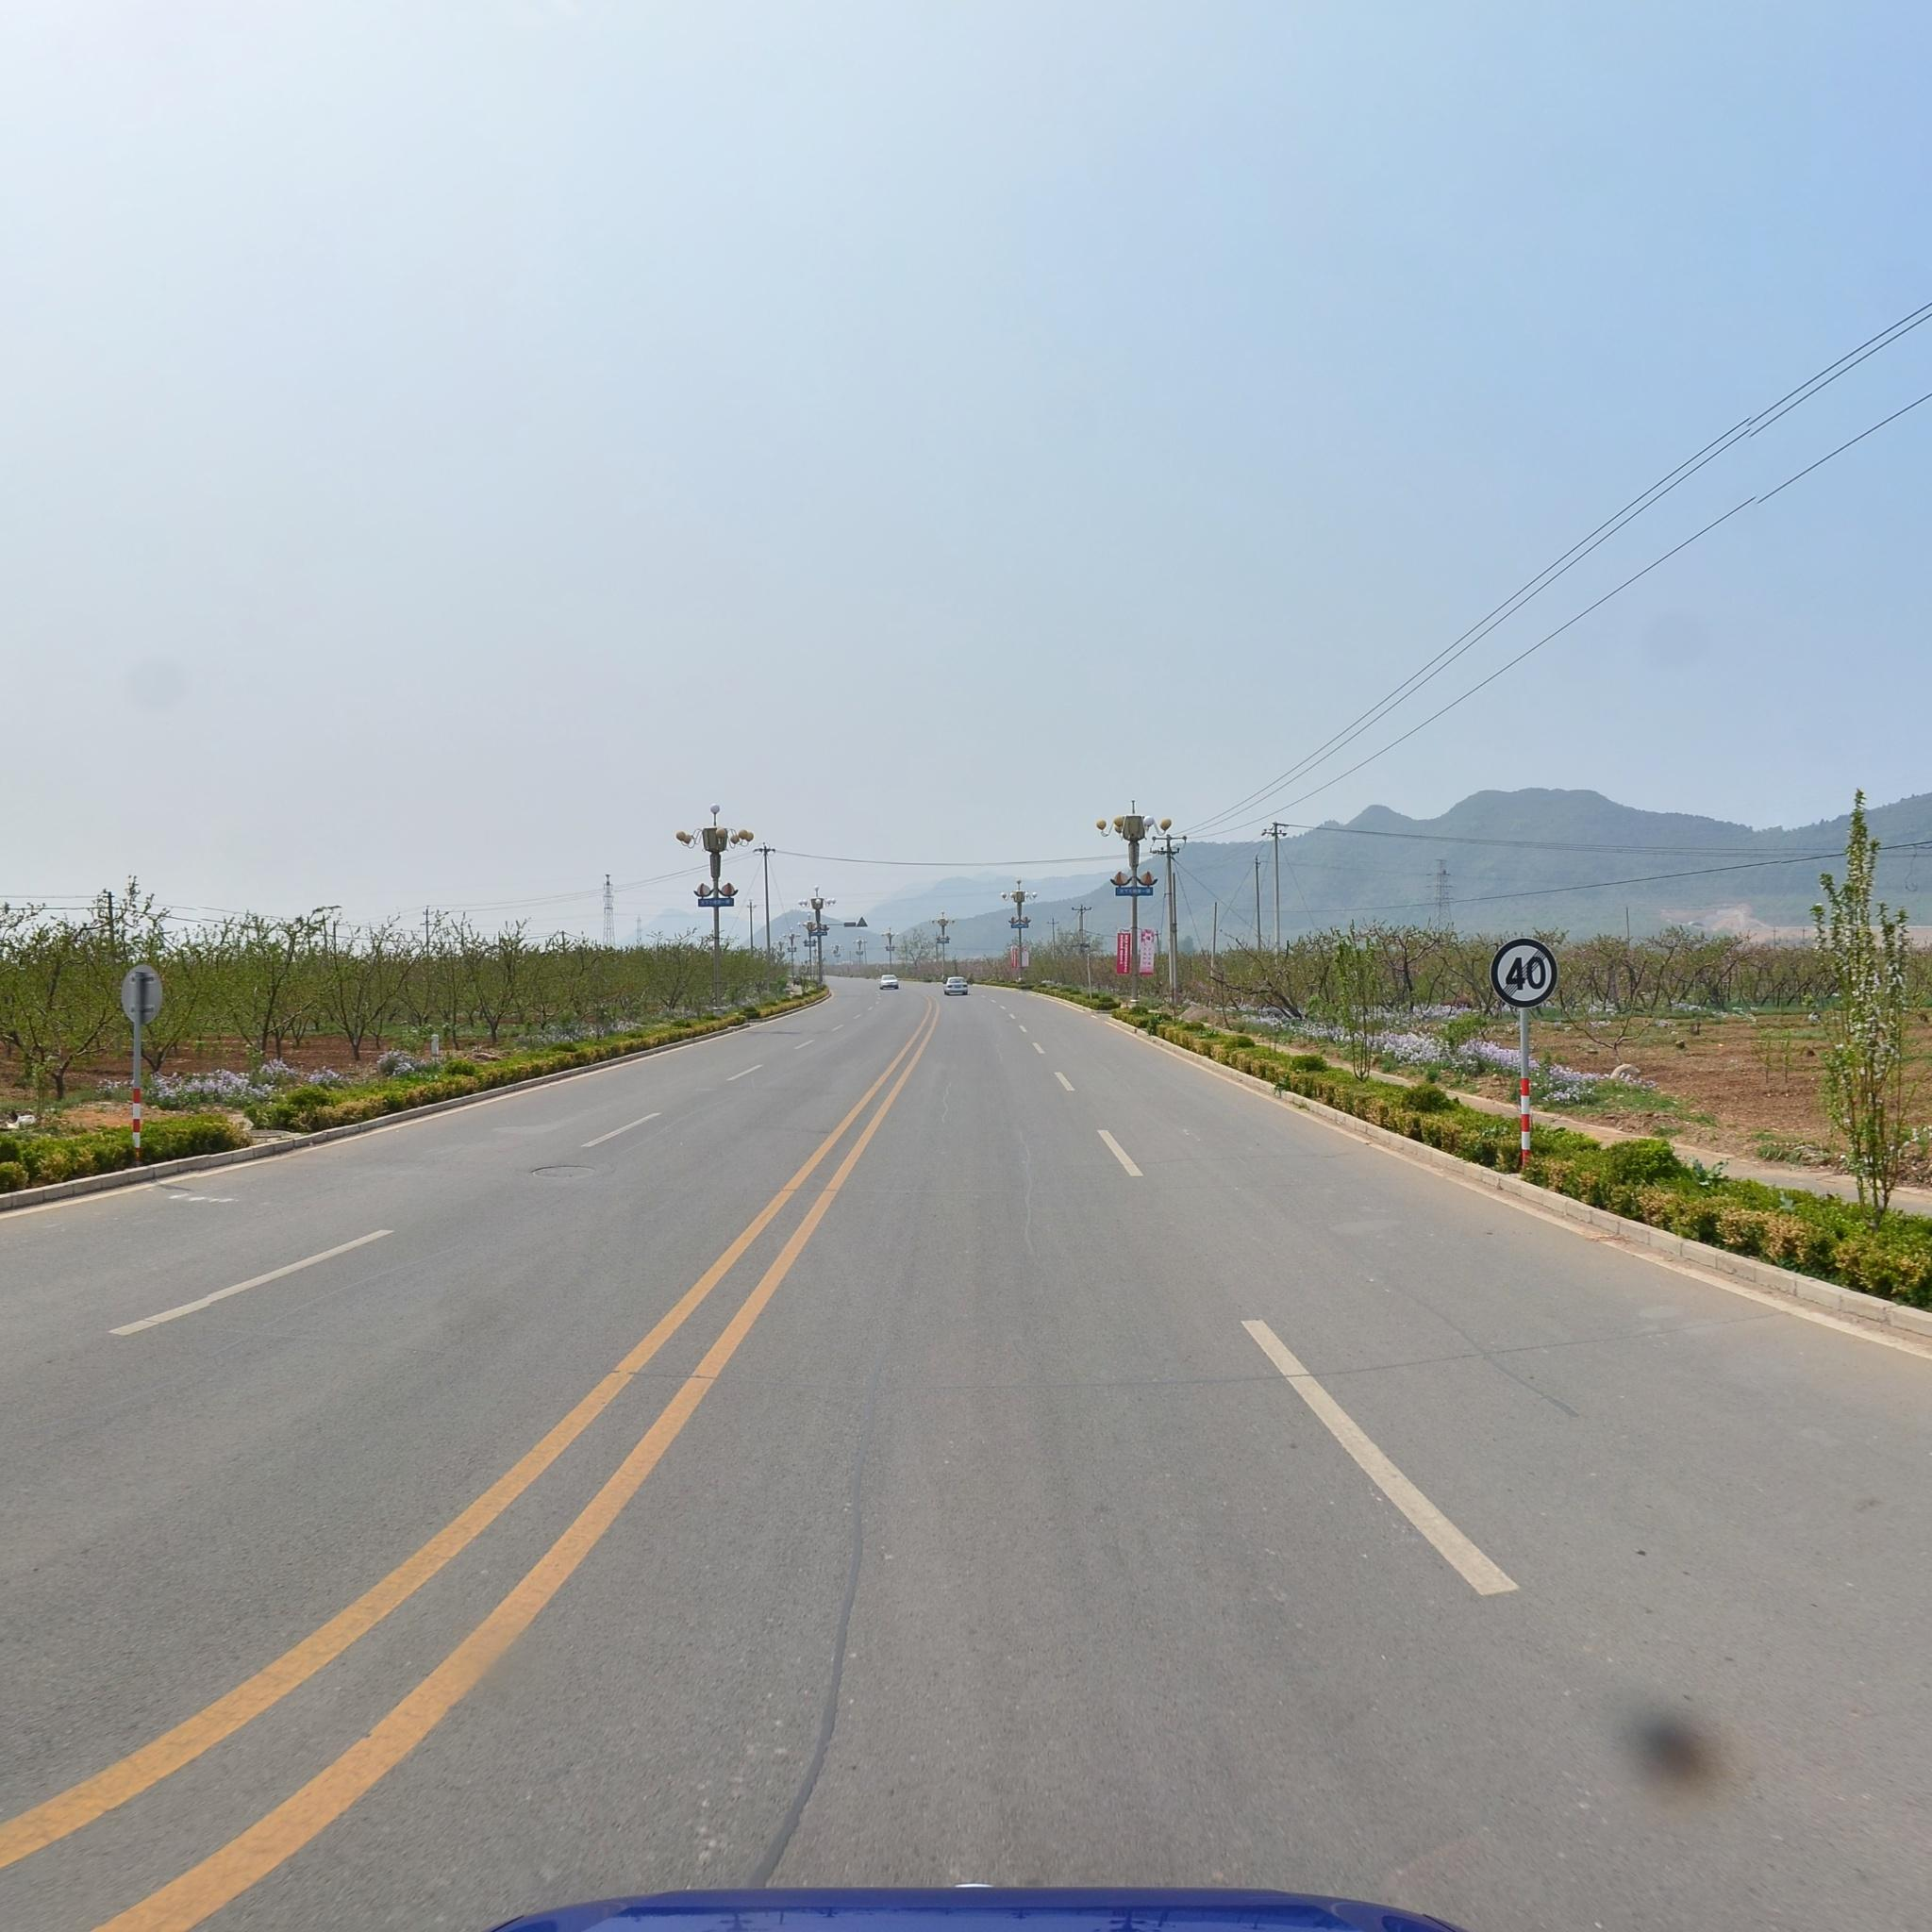pr40: (1490, 938, 1557, 1007)
